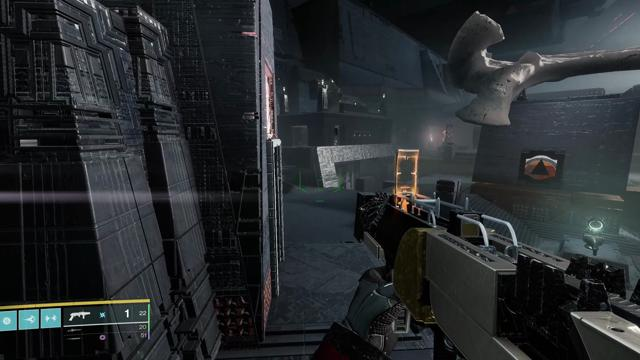pyramid: (524, 155, 558, 180)
